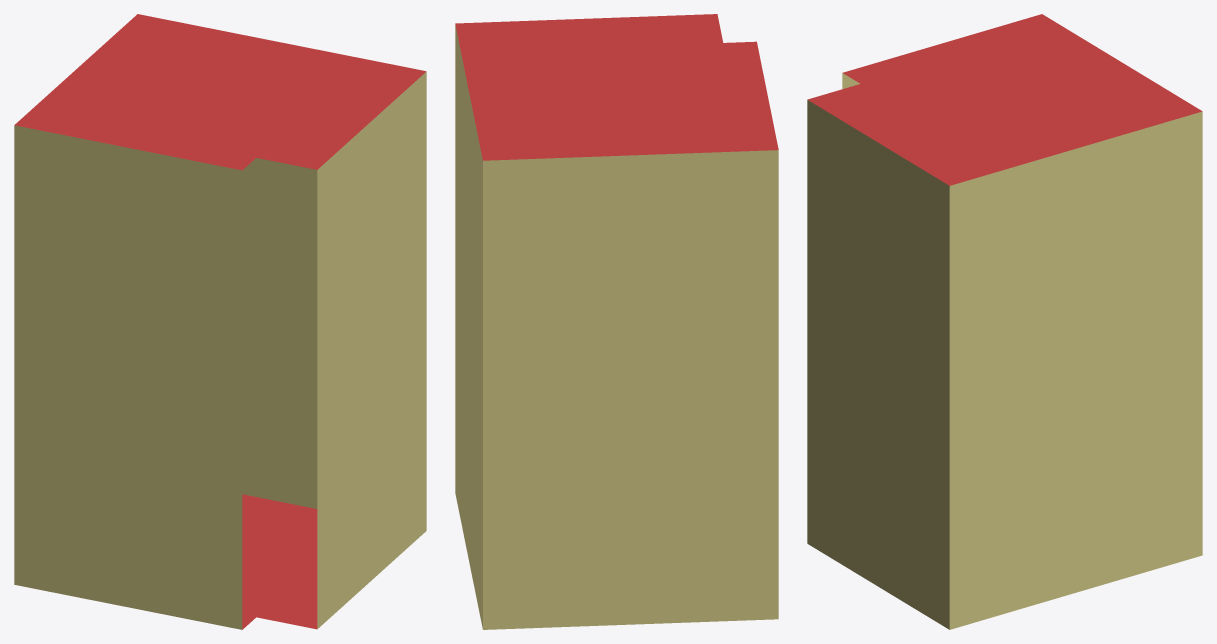
3 renders of one model, left to right at view 1: azimuth 30°, elevation 25°; view 2: azimuth 150°, elevation 25°; view 3: azimuth 270°, elevation 25°, orthographic. The views are drawn at different scales.
Size of the model in its own units: 6.49 by 6.31 by 7.82.
